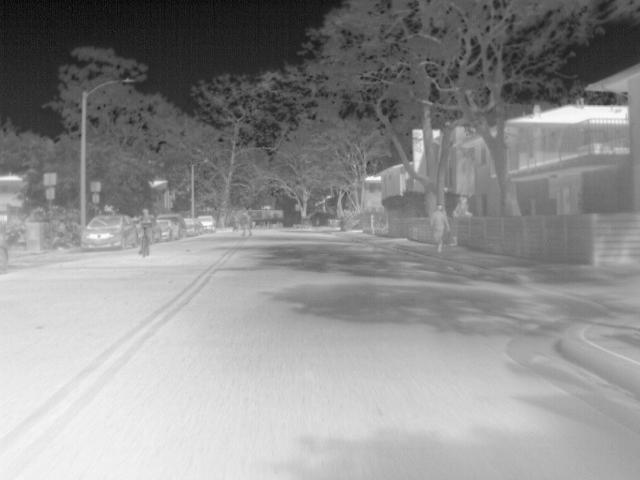car: (81, 213, 139, 250), (153, 218, 181, 244), (158, 213, 184, 237), (184, 218, 205, 238), (195, 214, 217, 232)
person: (427, 204, 450, 253), (452, 194, 473, 217), (138, 209, 152, 233), (240, 210, 252, 236)
